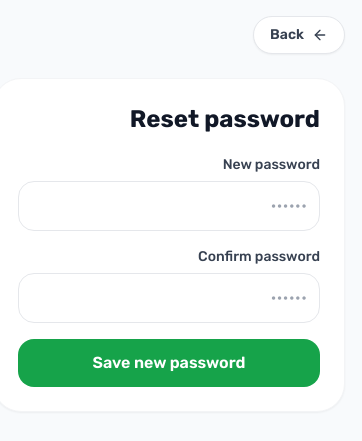
Test: ResetPasswordPage › rejects mismatched passwords before submitting
Check: the button "Save new password" is shown, box [18,339,320,387]
In the password field with placeholder "••••••": (169, 206) [18,181,320,231], type "secret12"
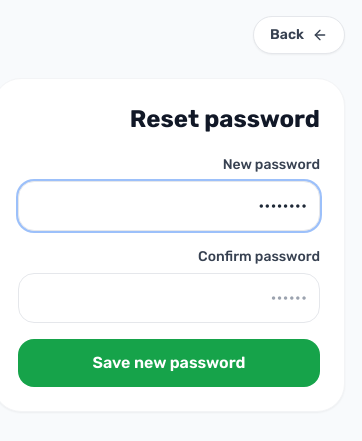
In the password field with placeholder "••••••": (169, 298) [18,273,320,323], type "secret21"
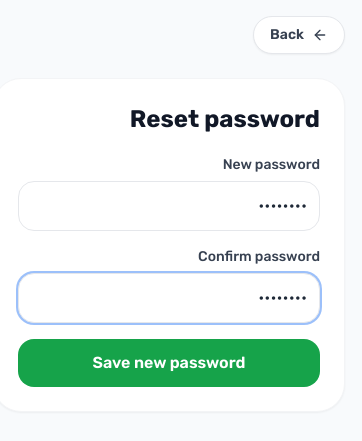
Click the button "Save new password": (169, 363) [18,339,320,387]
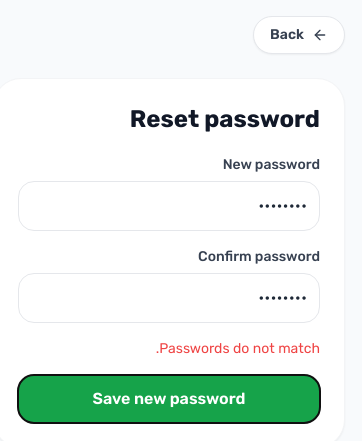
Check: the text "Passwords do not match." is shown, box [156,340,320,357]
